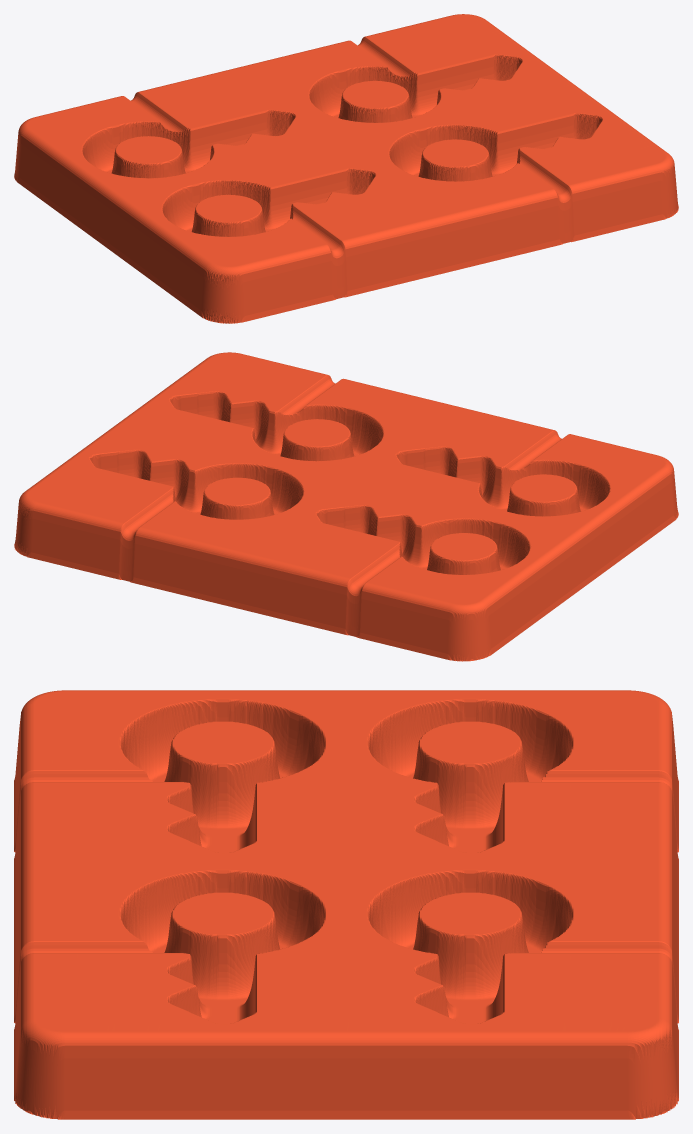
Rendered from mold.glb.
3 views of the same model, one above another, from view 1: azimuth 30°, elevation 25°; view 2: azimuth 150°, elevation 25°; view 3: azimuth 270°, elevation 25° (orthographic). The views are drawn at different scales.
Parts seen in each view (by area): view 1: geometry_0; view 2: geometry_0; view 3: geometry_0.
Boxes of the visible parts, <box> form: geometry_0: <box>14,14,678,323</box>; geometry_0: <box>14,352,678,661</box>; geometry_0: <box>14,690,678,1119</box>.
Size of the model in its own units: 0.1497 by 0.0155 by 0.1178.
